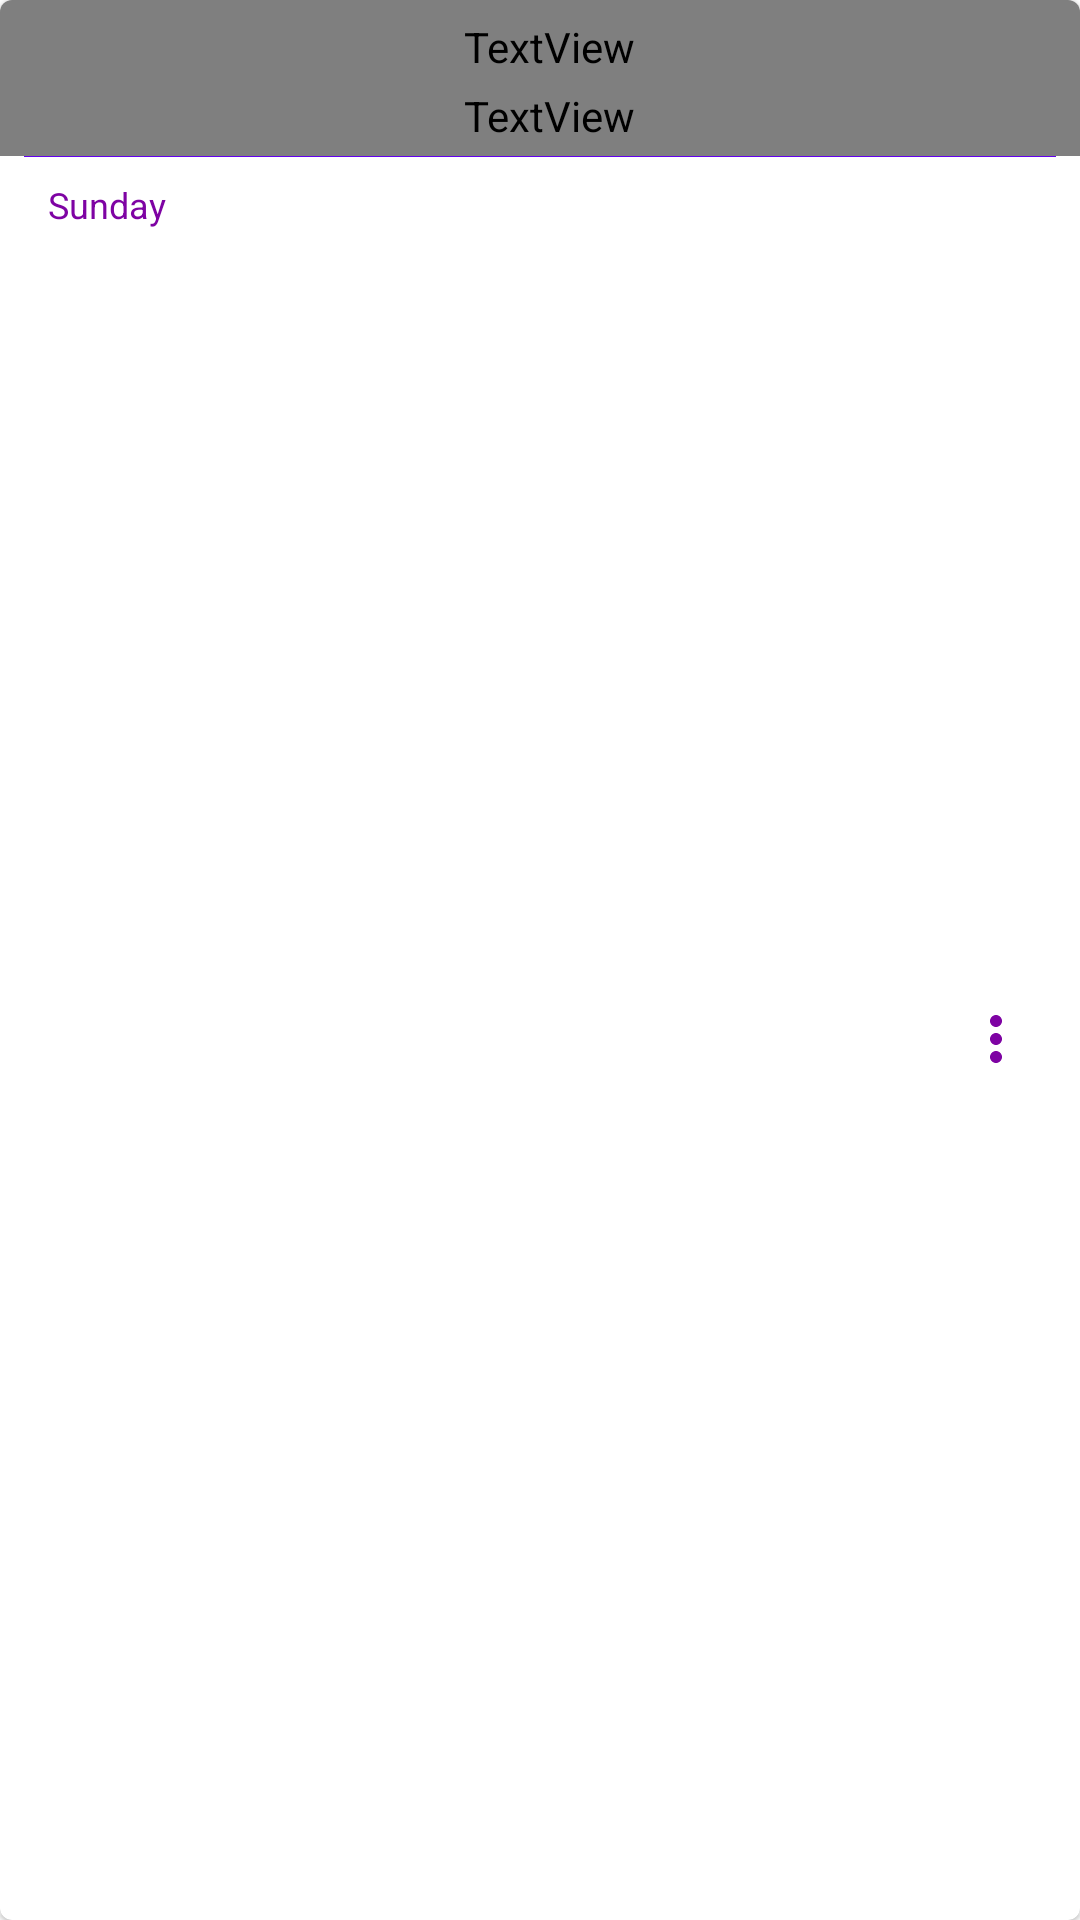

Point at icon controls on the screen. Image size 1080px x 1920px, points as point (x, y).
options: point (996, 1039)
